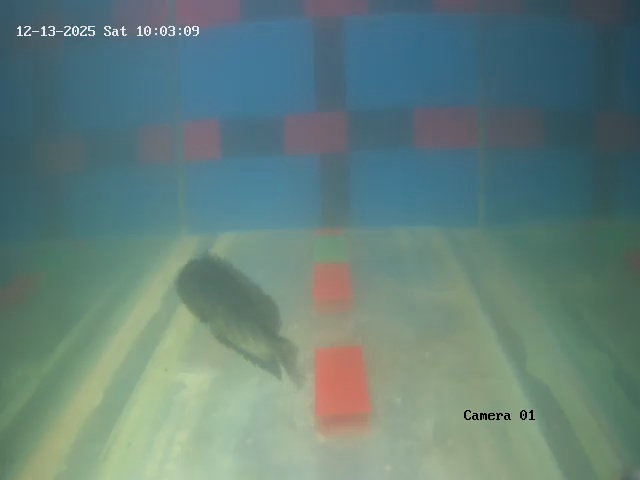fish: (172, 251, 276, 368)
